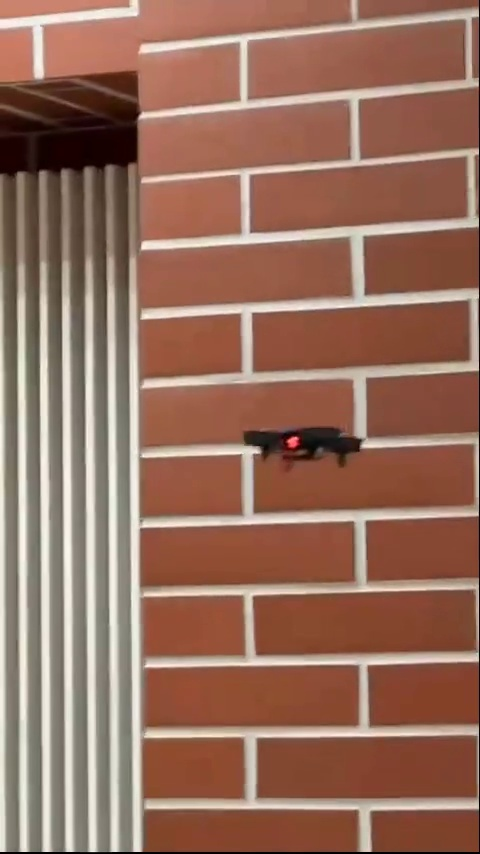drone: (238, 424, 370, 465)
